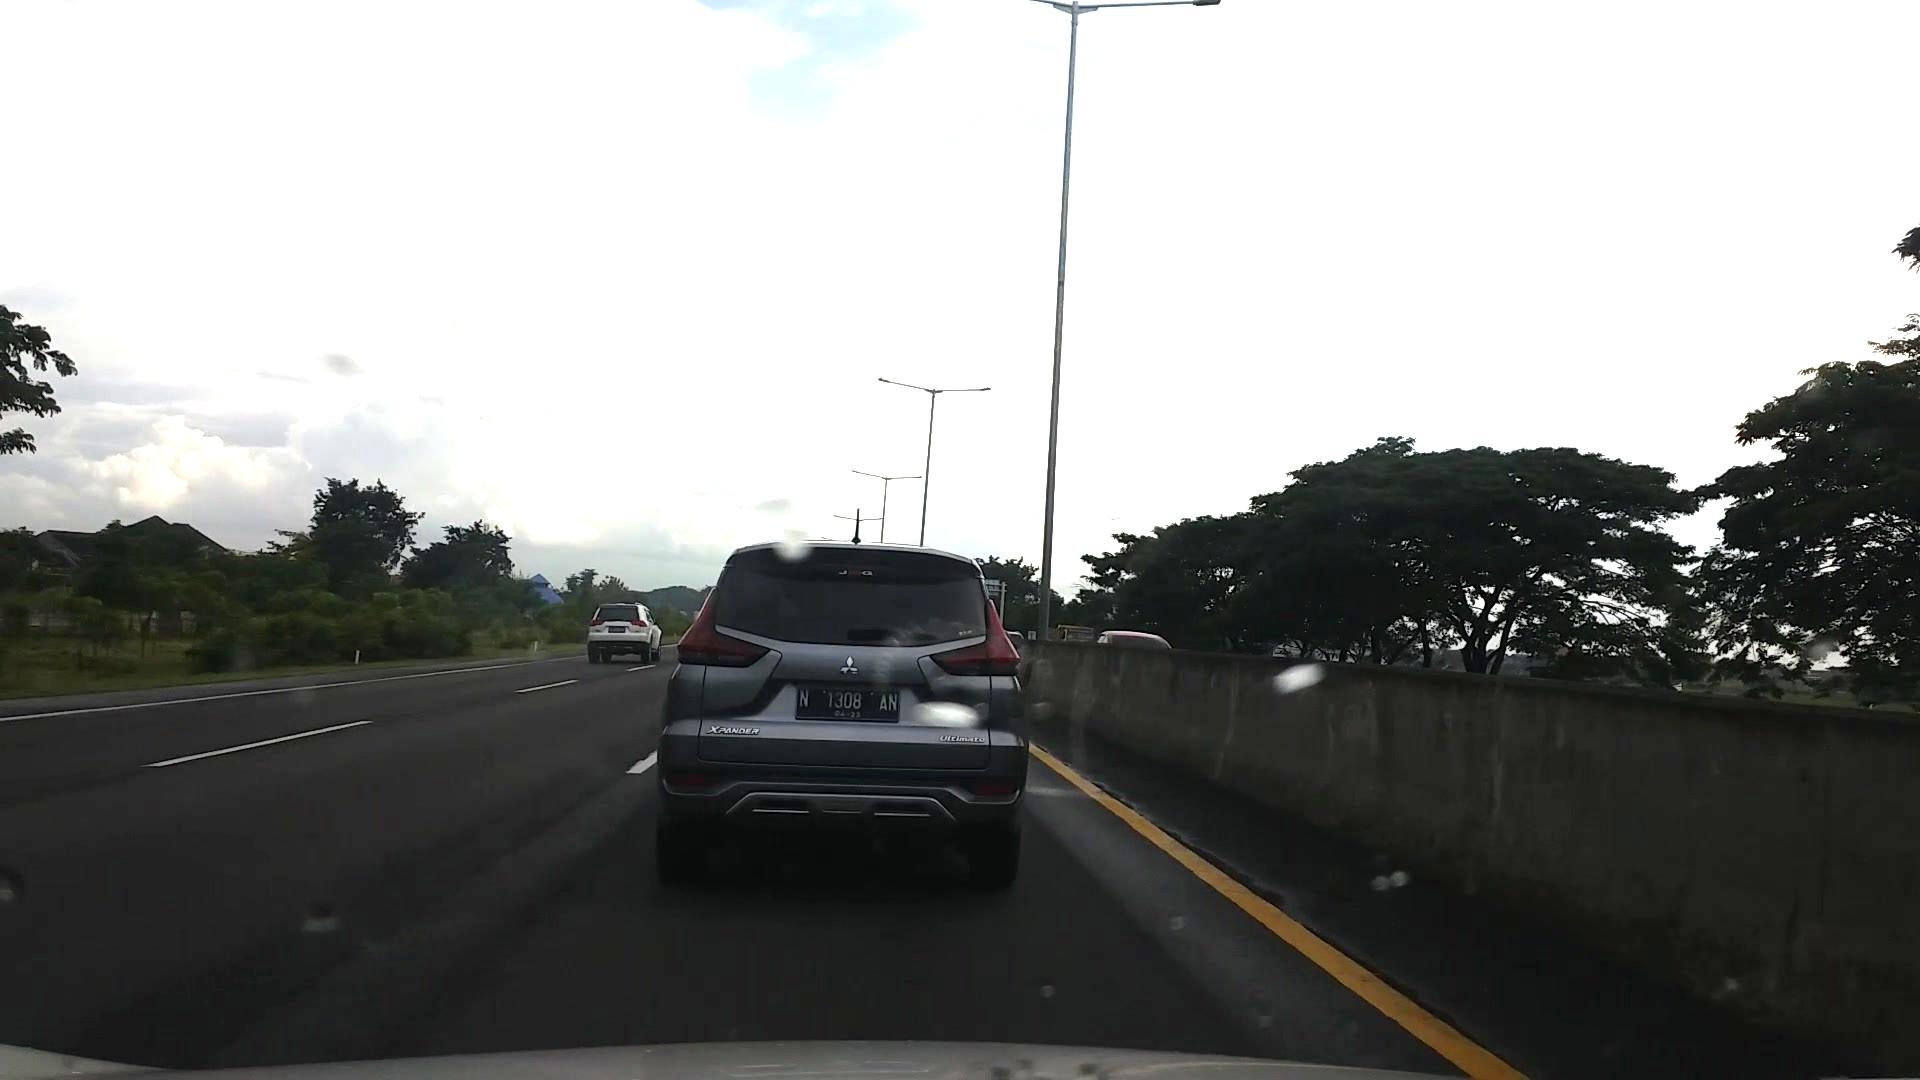plate_positive: (795, 687, 899, 723)
